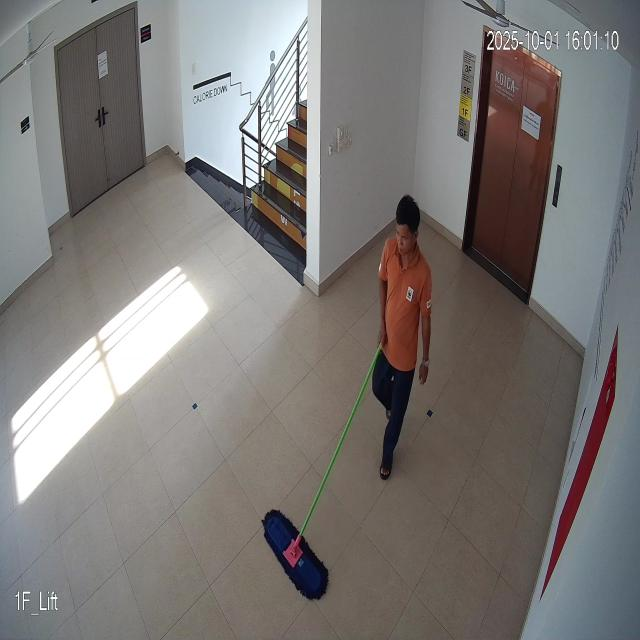face: (392, 188, 422, 259)
